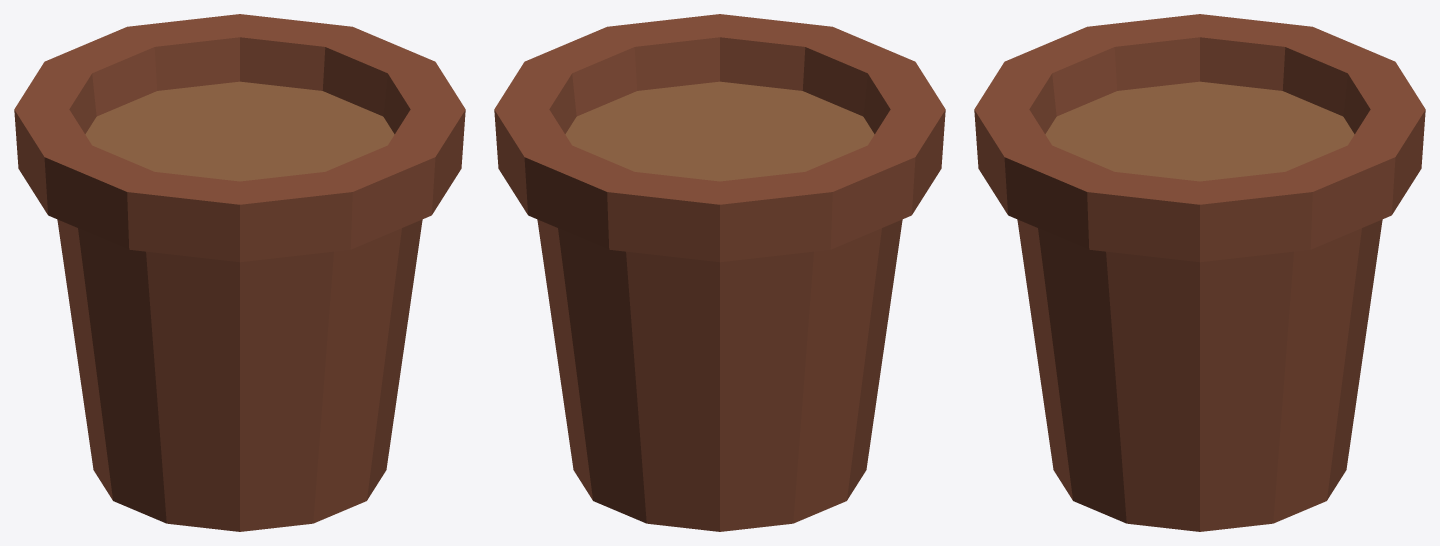
File: Pot_01.fbx
3 views of the same model, side by side, from view 1: azimuth 30°, elevation 25°; view 2: azimuth 150°, elevation 25°; view 3: azimuth 270°, elevation 25° (orthographic).
Parts seen in each view (by area): view 1: Pot_01; view 2: Pot_01; view 3: Pot_01.
Part boxes in pixels (box(x1,y1,x2,y2)): Pot_01: box(14, 14, 465, 531); Pot_01: box(494, 14, 945, 531); Pot_01: box(974, 14, 1425, 531).
Bounding box in the file's own units: 91.25 × 80.45 × 91.25.
